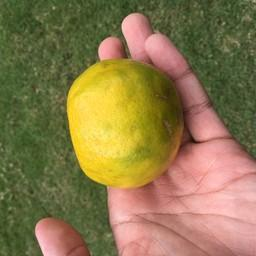Good_orange: (67, 58, 187, 189)
